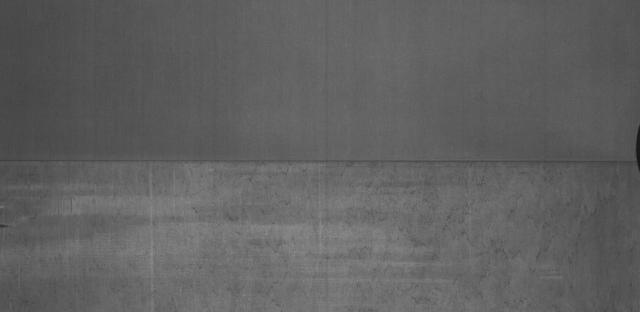welding_line: (2, 151, 640, 176)
